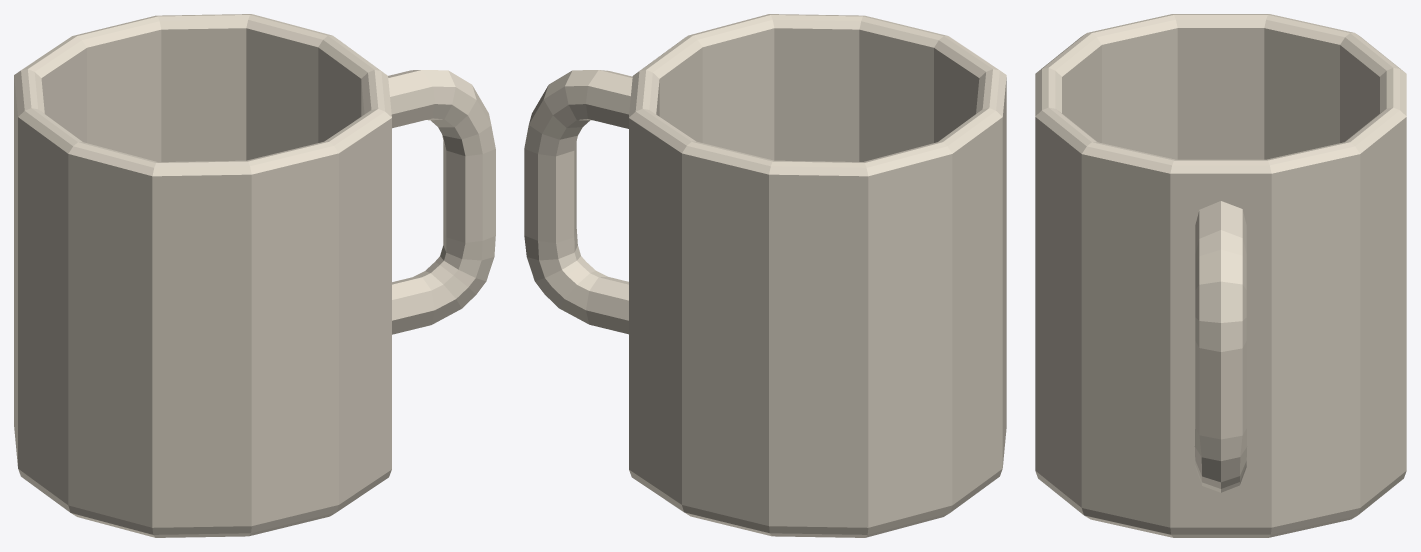
The model's file is CANECA.FBX.
3 renders of one model, left to right at view 1: azimuth 30°, elevation 25°; view 2: azimuth 150°, elevation 25°; view 3: azimuth 270°, elevation 25°, orthographic.
Parts seen in each view (by area): view 1: Cube; view 2: Cube; view 3: Cube.
Boxes of the visible parts, bbox=[...] form: Cube: bbox=[14, 14, 495, 537]; Cube: bbox=[524, 14, 1006, 537]; Cube: bbox=[1035, 14, 1406, 537].
Size of the model in its own units: 4509 by 3643 by 3200.
